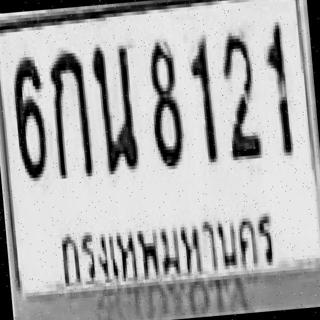A01: (47, 47, 92, 180)
A25: (89, 41, 140, 175)
N01: (261, 20, 292, 155), (186, 33, 216, 162)
N02: (218, 30, 259, 159)
N06: (10, 54, 48, 180)
N08: (145, 38, 184, 167)
P04: (47, 199, 288, 293)
